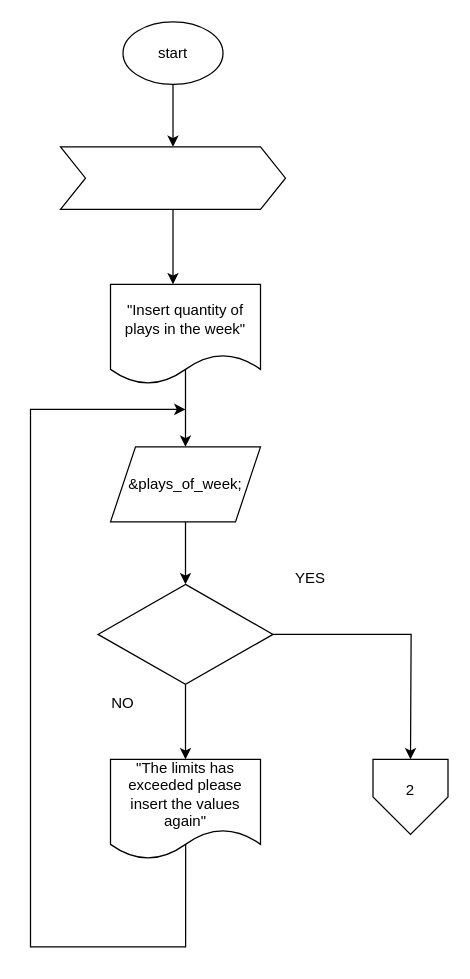
Some shapes in this 470 by 979 pixel diagram are drawn without their labels. The centre of each missing label's shape, as x and y in pixels:
"call GLOBAL CONFIG" goes at (172,177).
"plays_of_week > max_football_games" goes at (185,633).
